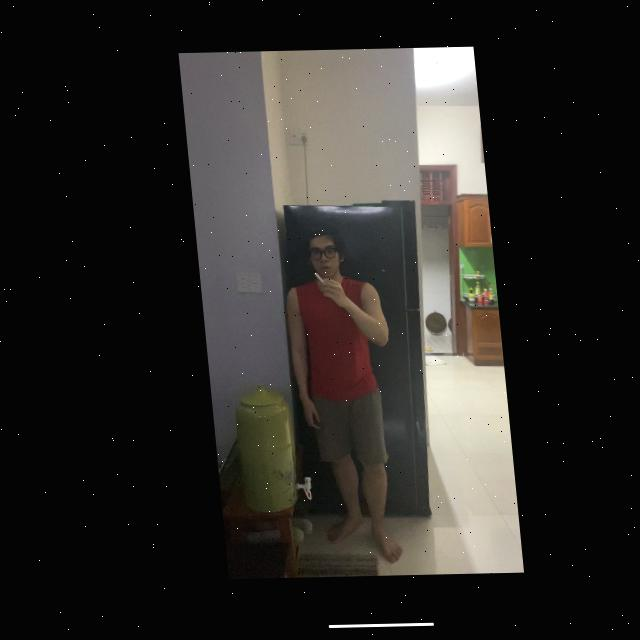cigarette: (307, 275, 318, 285)
